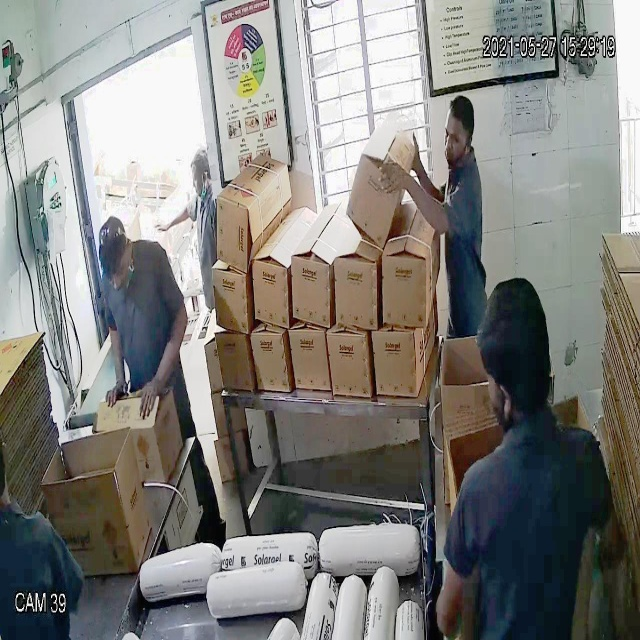Sin_gafas: (439, 122, 474, 153)
